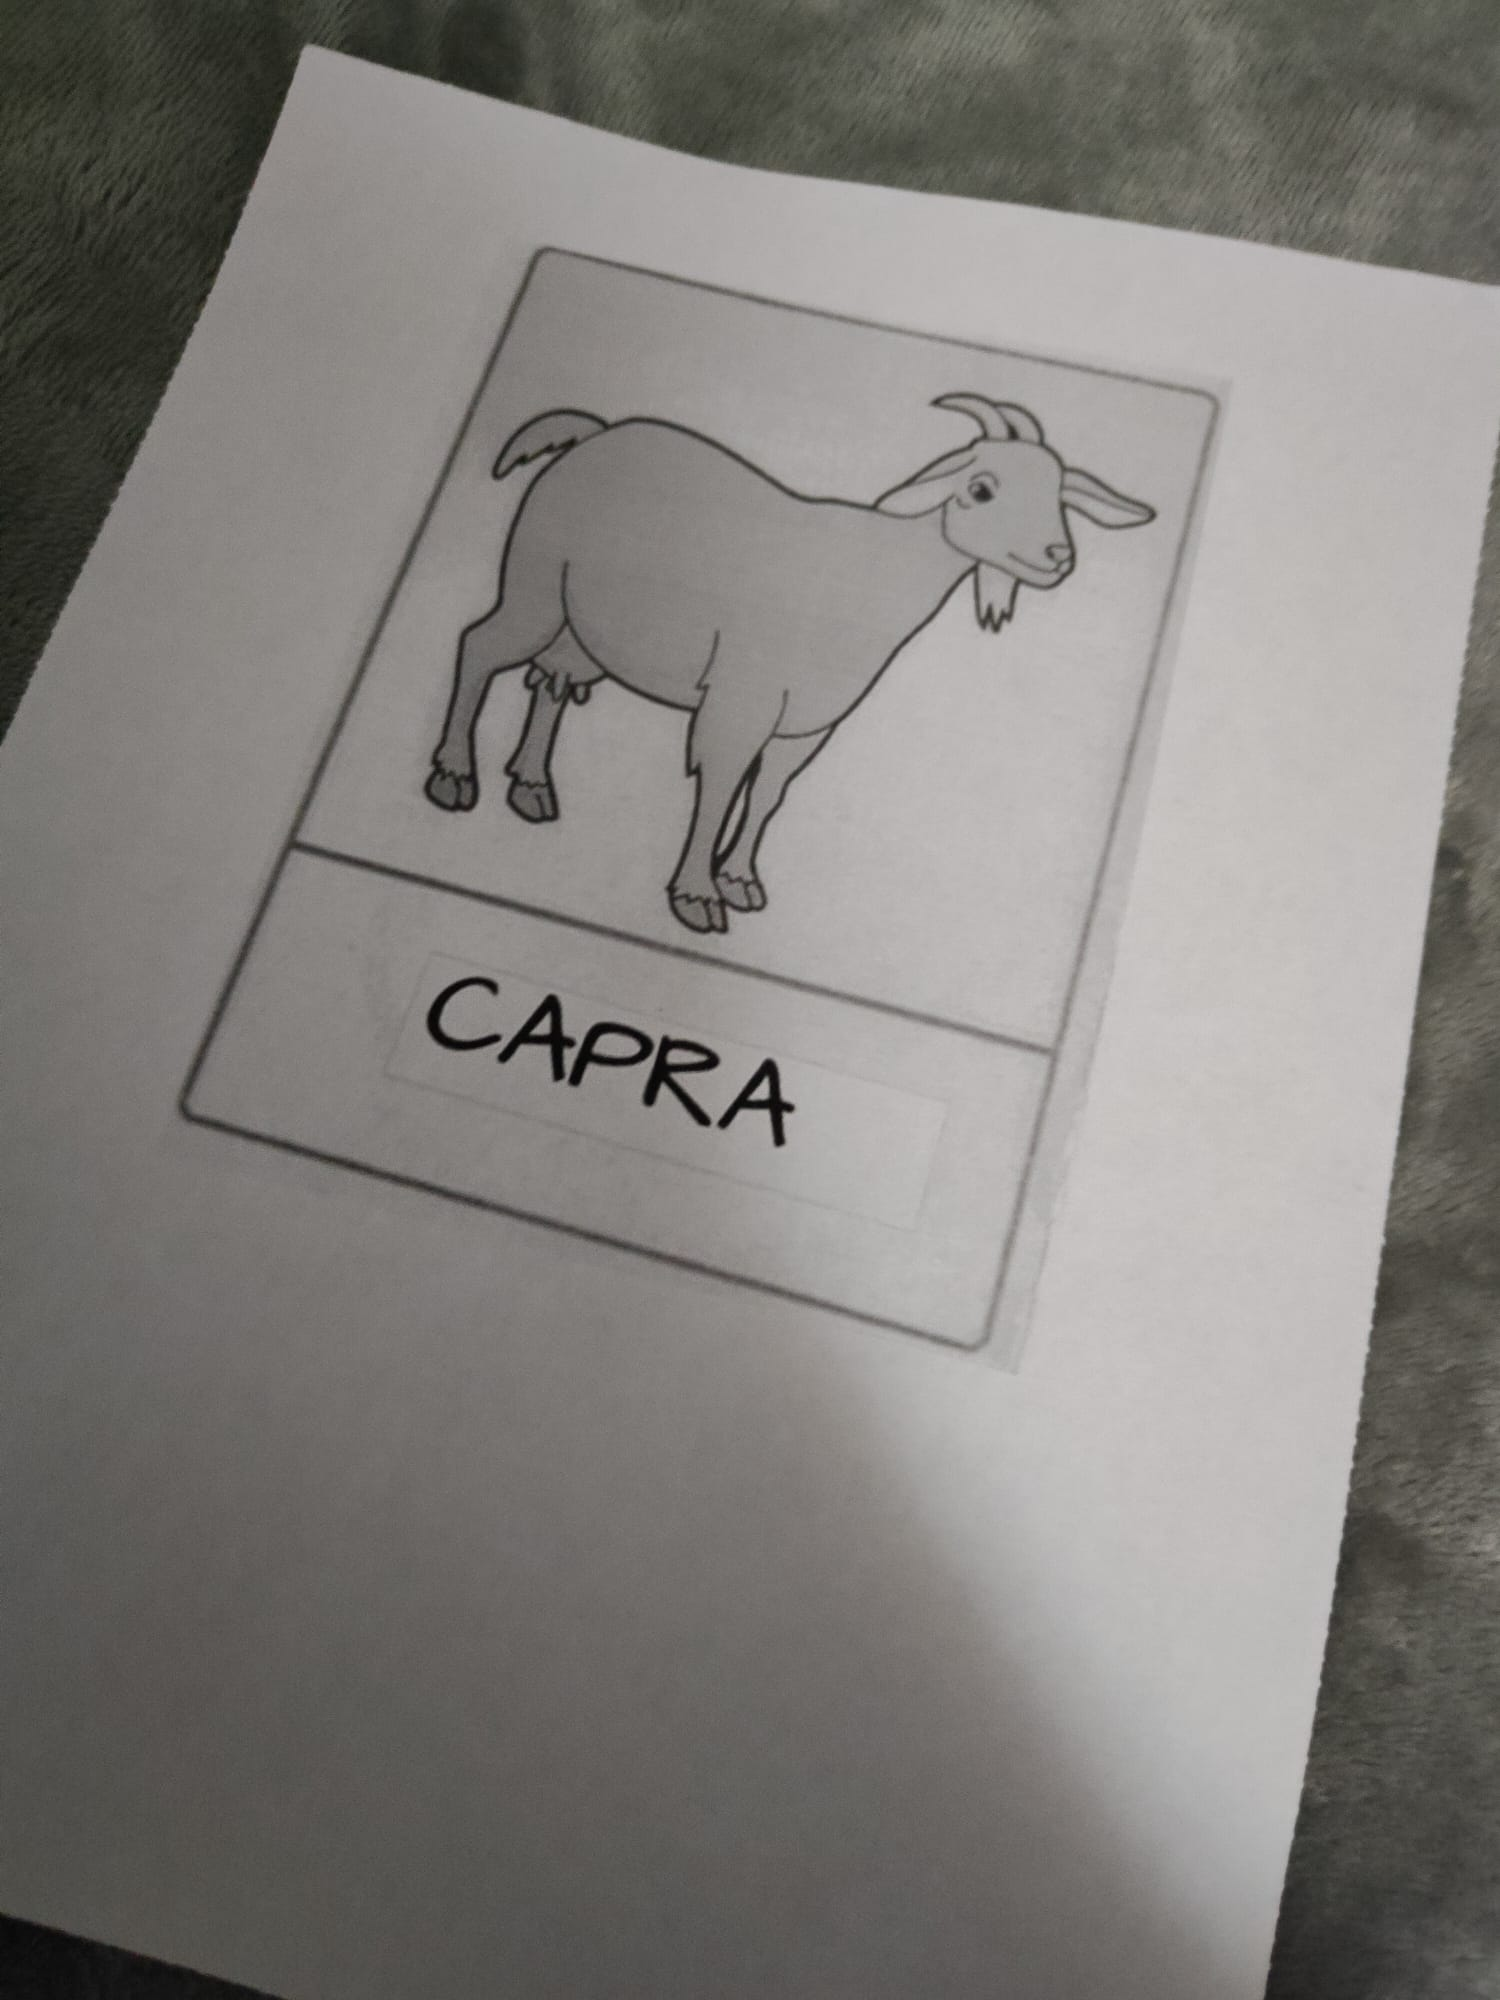capra: (358, 214, 1194, 1268)
